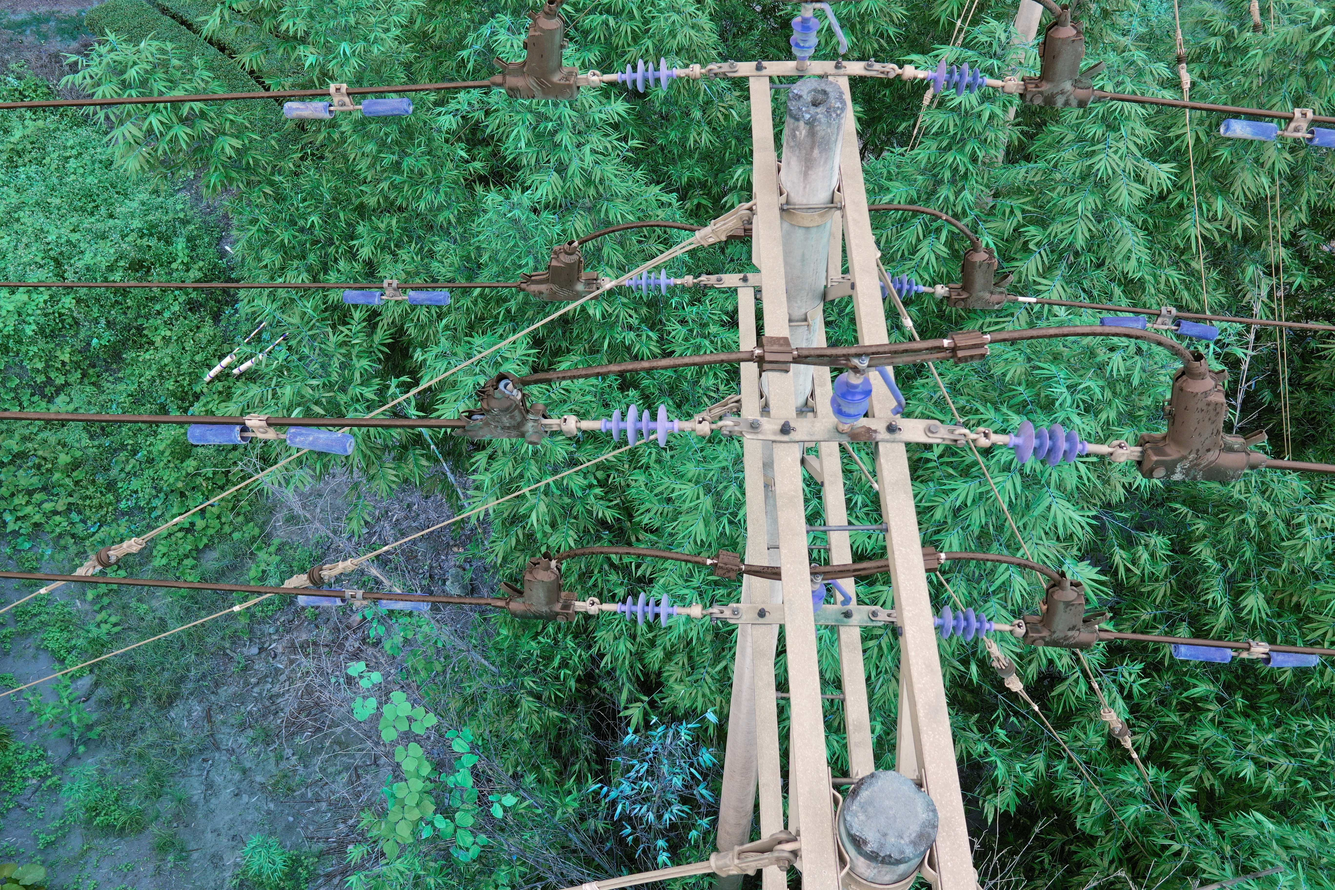severe_soiling_no_discharge_whole: (829, 366, 874, 436), (924, 55, 987, 99), (786, 2, 822, 70)
